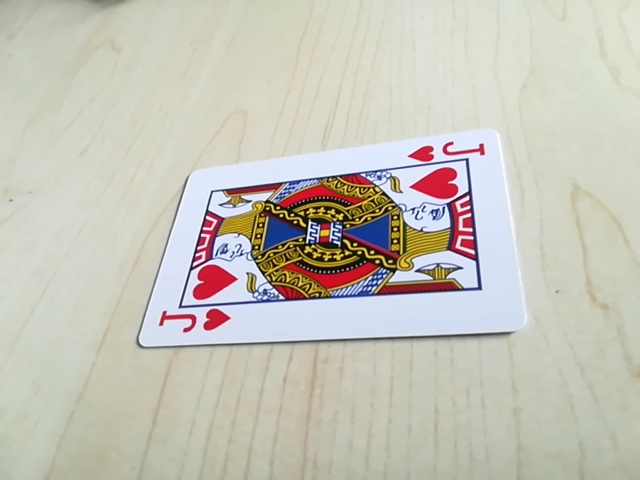hx j: (153, 304, 232, 341), (409, 137, 491, 162)
